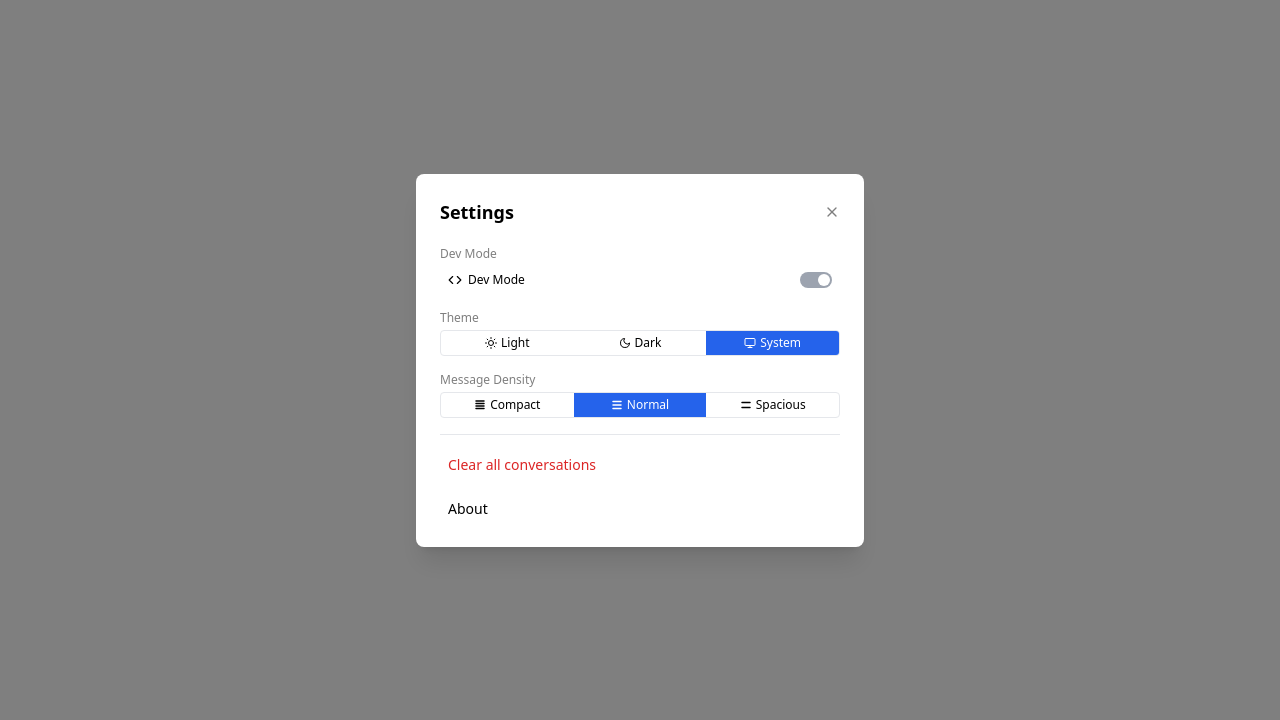
Test: ST-3: About modal › closes about modal when close button is clicked
Click the button "About" at (468, 508), box x1=440 y1=494 x2=840 y2=522
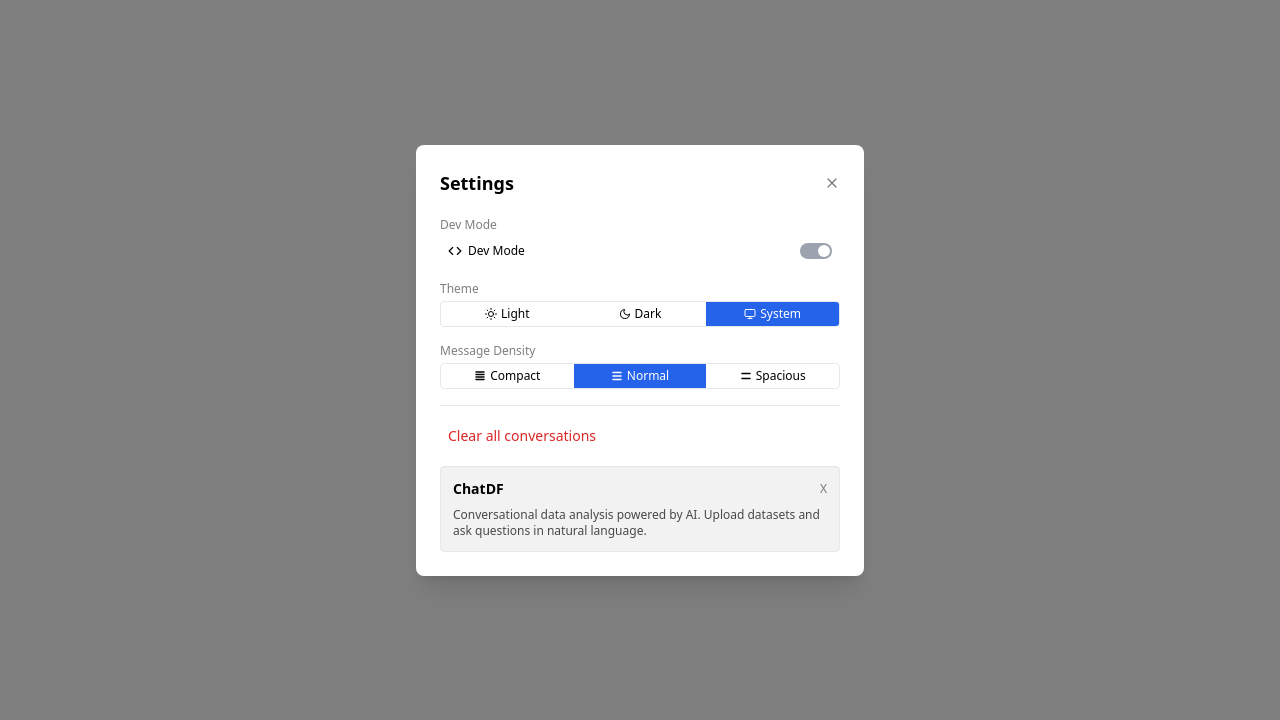
Result: the element with test id "about-modal" is shown at x1=440 y1=466 x2=840 y2=552
Click the button with test id "close-about-modal" at (824, 488), box x1=820 y1=480 x2=827 y2=496
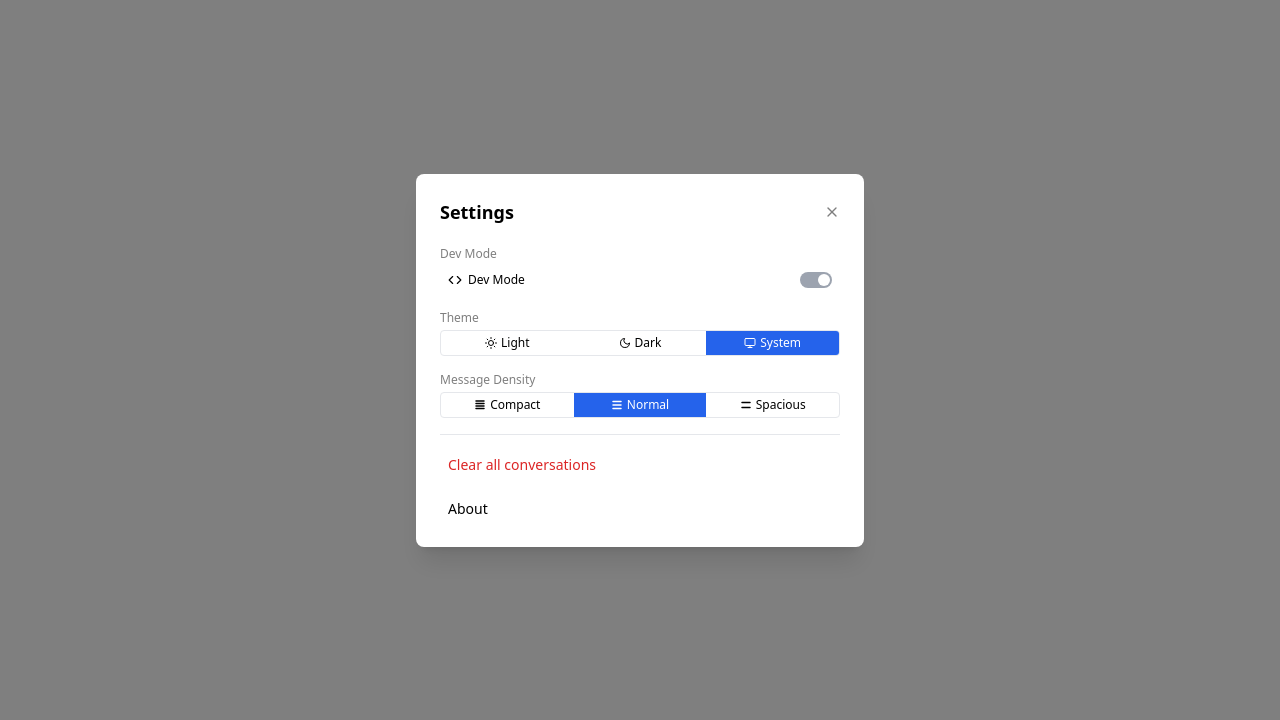
Result: the element with test id "about-modal" is gone
